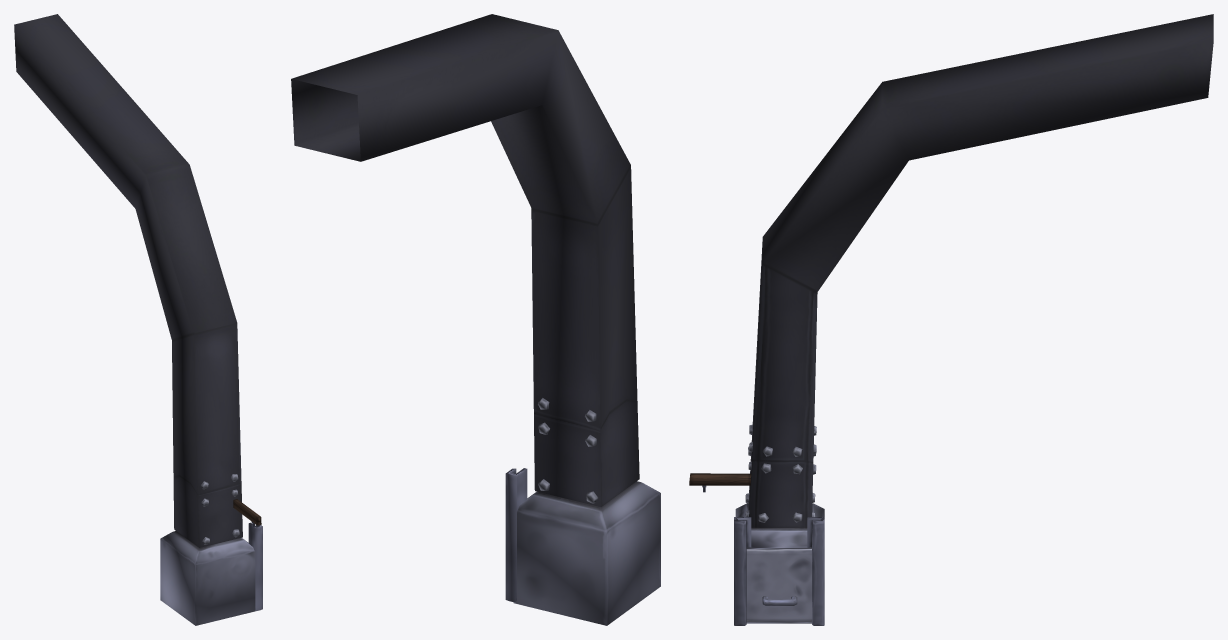
Rendered from env_Chute.fbx.
3 renders of one model, left to right at view 1: azimuth 30°, elevation 25°; view 2: azimuth 150°, elevation 25°; view 3: azimuth 270°, elevation 25°, orthographic. The views are drawn at different scales.
Visible parts, largest first — view 1: chute; view 2: chute; view 3: chute, chuteDoor.
Boxes of the visible parts, <box> form: chute: <box>14,14,262,625</box>; chute: <box>291,14,660,625</box>; chute: <box>689,14,1213,625</box>; chuteDoor: <box>746,549,811,621</box>.
Bounding box in the file's own units: 88.78 × 534 × 440.
